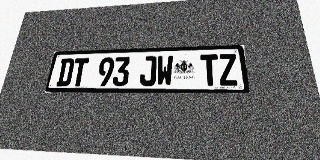3: (112, 57, 130, 86)
9: (96, 57, 115, 86)
D: (56, 58, 75, 86)
J: (139, 56, 157, 86)
T: (200, 54, 219, 86), (70, 58, 89, 86)
W: (156, 55, 173, 86)
Z: (218, 54, 239, 86)
